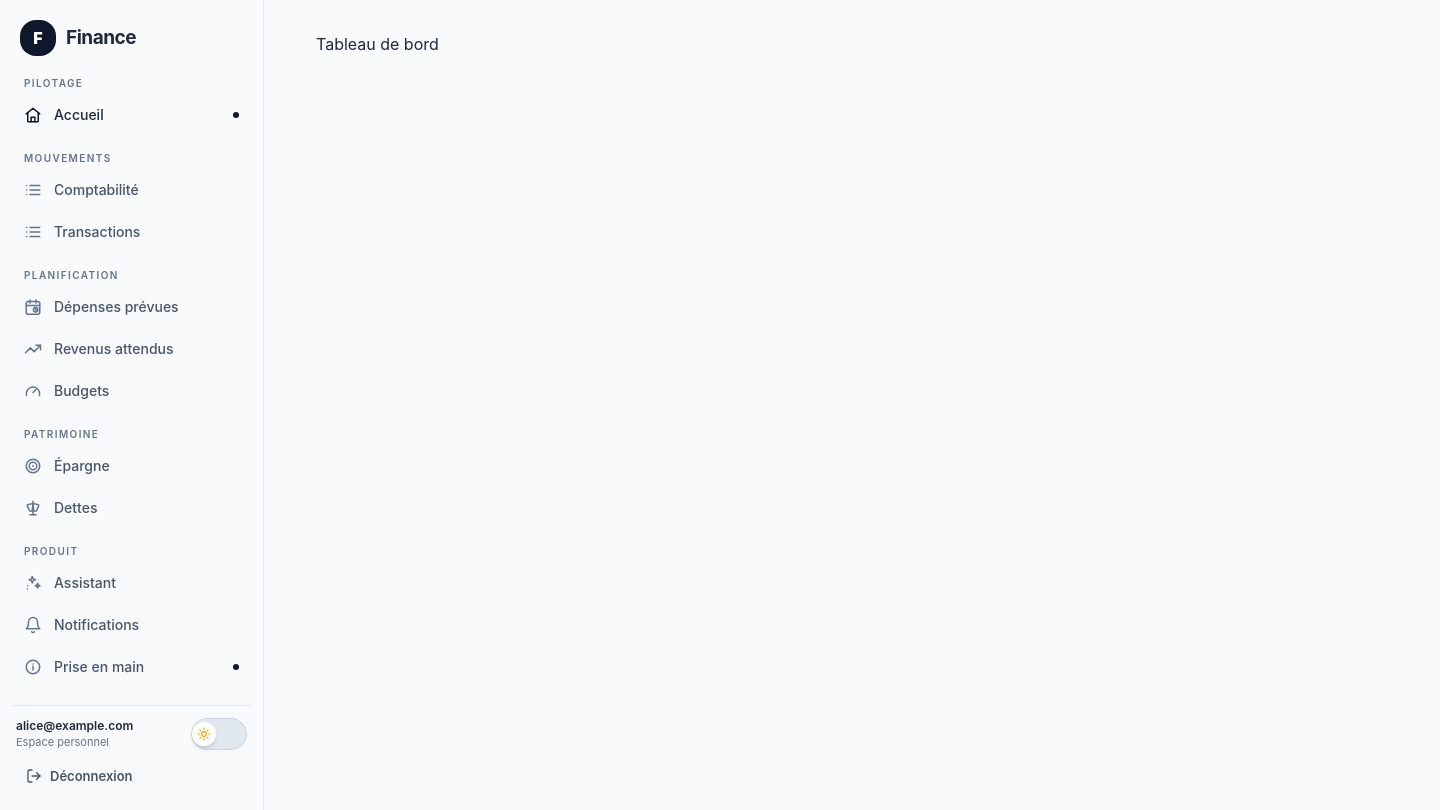
it: Chrome — ancres de la prise en main guidée › relancer le guide depuis le chrome ouvre le tour à l’accueil
The width and height of the screenshot is (1440, 810).
Check: the heading "Tableau de bord" is shown, box [316,34,439,54]
Click the button with test id "relaunch-guide": (132, 667) [12,647,251,687]
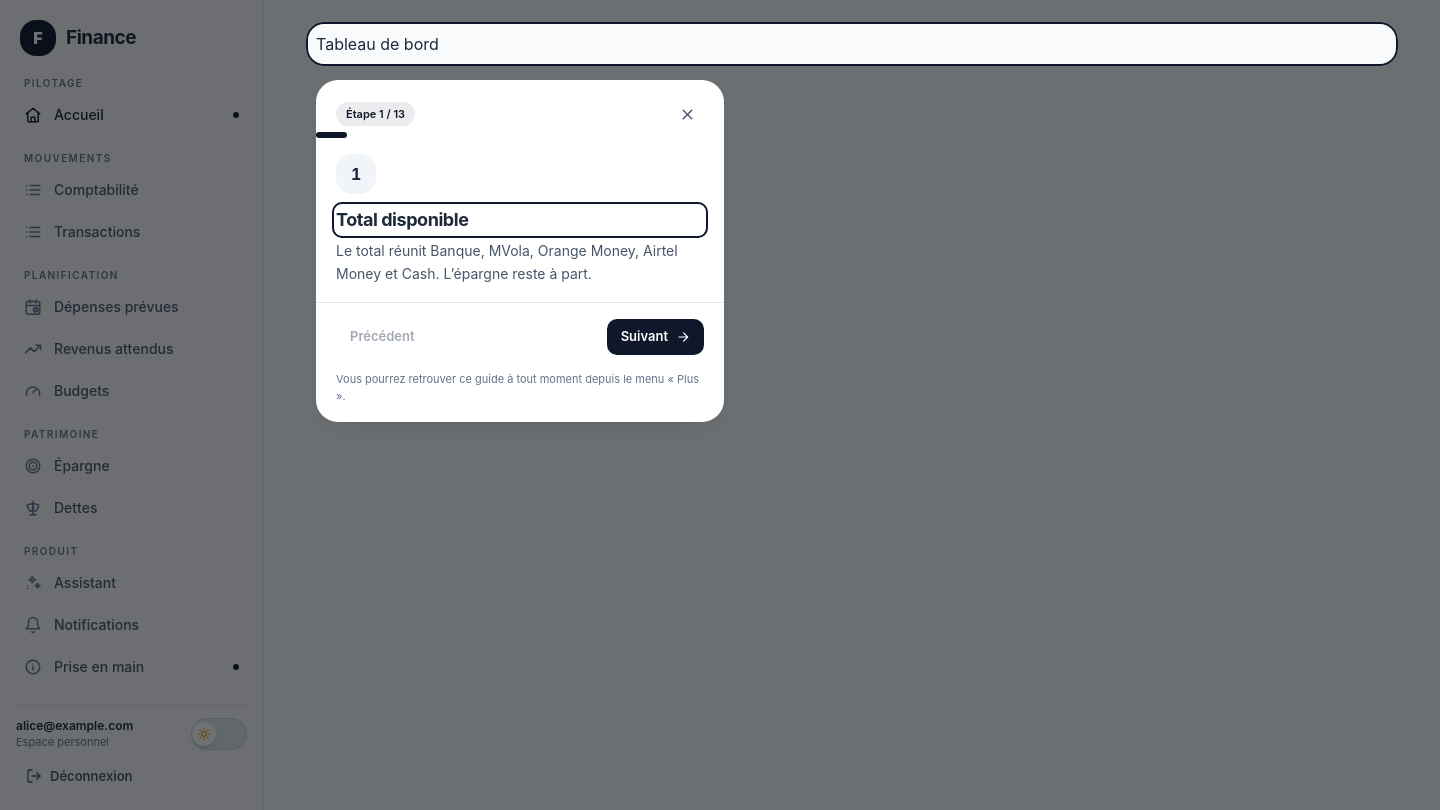
Check: the dialog "Total disponible" shows "Étape 1 / 13", box [316,80,724,422]
